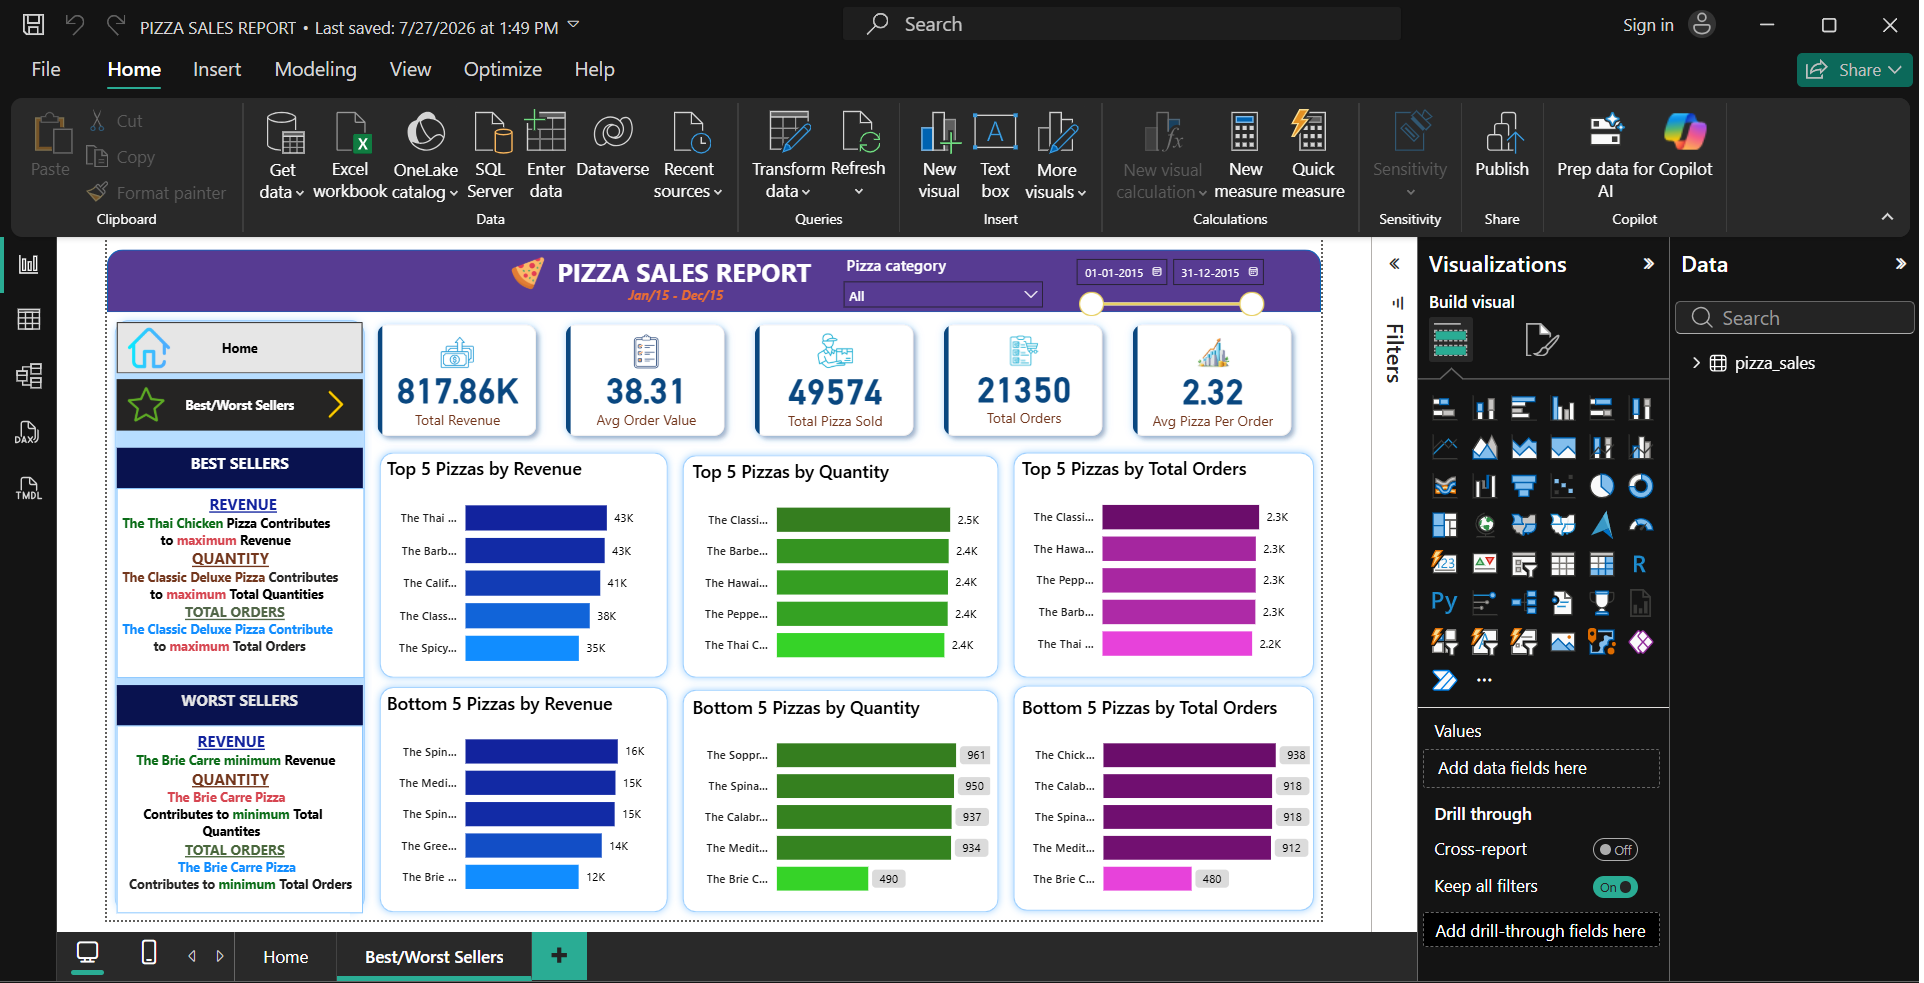

Layout of this report page (visuals, bound fields, positions):
{"tool":"powerbi","page":{"name":"Best/Worst Sellers","canvas":[1280,720],"ordinal":1},"visuals":[{"type":"cardVisual","fields":{"Data":["pizza_sales.Total Revenue","pizza_sales.Avg Order Value","pizza_sales.Total Pizza Sold","pizza_sales.Total Orders","pizza_sales.Avg Pizza Per Order"]},"box":[256.5,62.9,1022.8,175.4],"z":0},{"type":"shape","box":[0,13.2,1279.4,66.2],"z":1000},{"type":"textbox","box":[450.4,13.2,316.5,50],"z":2000},{"type":"textbox","box":[487.2,47.1,225.2,32.4],"z":3000},{"type":"image","box":[419.5,20.6,48.6,35.3],"z":4000},{"type":"shape","box":[279.7,219.3,319.4,253.2],"z":5000},{"type":"shape","box":[0,79.4,279.7,640.5],"z":6000},{"type":"textbox","box":[10.3,222.3,259.1,43],"z":7000},{"type":"textbox","box":[10.3,264.9,260.5,200.2],"z":8000},{"type":"textbox","box":[9.6,483.4,245.7,236.1],"z":9000},{"type":"textbox","box":[10.3,472.5,259.1,42.7],"z":10000},{"type":"textbox","box":[10.3,515.2,259.1,198],"z":11000},{"type":"slicer","fields":{"Values":["pizza_sales.pizza_category"]},"box":[766.8,13.2,229.6,66.2],"z":12000},{"type":"slicer","fields":{"Values":["pizza_sales.order_date"]},"box":[1009.6,13.2,218.5,76.1],"z":13000},{"type":"shape","box":[599.1,222.3,348.8,250.2],"z":14000},{"type":"shape","box":[947.9,219.3,332.6,253.2],"z":15000},{"type":"shape","box":[279.7,466.6,319.4,253.2],"z":16000},{"type":"shape","box":[599.1,469.5,348.8,250.2],"z":17000},{"type":"shape","box":[947.9,465.1,332.6,253.2],"z":18000},{"type":"barChart","title":"Top 5 Pizzas by Revenue","fields":{"Category":["pizza_sales.pizza_name"],"Y":["pizza_sales.Total Revenue"]},"box":[290,231.1,298.8,235.5],"z":19000},{"type":"barChart","title":"Bottom 5 Pizzas by Revenue","fields":{"Category":["pizza_sales.pizza_name"],"Y":["pizza_sales.Total Revenue"]},"box":[290,478.4,298.8,228.1],"z":20000},{"type":"barChart","title":"Top 5 Pizzas by Quantity","fields":{"Category":["pizza_sales.pizza_name"],"Y":["pizza_sales.Total Pizza Sold"]},"box":[612.3,234,322.3,228.1],"z":21000},{"type":"barChart","title":"Bottom 5 Pizzas by Quantity","fields":{"Category":["pizza_sales.pizza_name"],"Y":["pizza_sales.Total Pizza Sold"]},"box":[612.3,482.8,323.8,225.2],"z":22000},{"type":"barChart","title":"Top 5 Pizzas by Total Orders","fields":{"Category":["pizza_sales.pizza_name"],"Y":["pizza_sales.Total Orders"]},"box":[959.7,231.1,307.6,229.6],"z":23000},{"type":"barChart","title":"Bottom 5 Pizzas by Total Orders","fields":{"Category":["pizza_sales.pizza_name"],"Y":["pizza_sales.Total Orders"]},"box":[959.7,482.8,313.5,225.2],"z":24000},{"type":"pageNavigator","box":[10.3,150.1,259.1,54],"z":25000},{"type":"pageNavigator","box":[9.9,89.4,259.8,54],"z":26000},{"type":"image","box":[22.1,89.8,44.2,54.5],"z":27000},{"type":"image","box":[226.7,157.5,29.4,38.3],"z":28000},{"type":"image","box":[16.2,157.5,50,38.3],"z":29000}]}

Visuals, with their boxes on the page's 1280x720 design canvas (x1, y1, x2, y2). These are canvas units, not pixel positions in the 1924x983 screenshot, which may show the page scaled, cropped or inside an application window:
cardVisual - pizza_sales.Total Revenue x pizza_sales.Avg Order Value: <box>256,63,1279,238</box>
shape: <box>0,13,1279,79</box>
textbox: <box>450,13,767,63</box>
textbox: <box>487,47,712,80</box>
image: <box>420,21,468,56</box>
shape: <box>280,219,599,472</box>
shape: <box>0,79,280,720</box>
textbox: <box>10,222,269,265</box>
textbox: <box>10,265,271,465</box>
textbox: <box>10,483,255,720</box>
textbox: <box>10,472,269,515</box>
textbox: <box>10,515,269,713</box>
slicer - pizza_sales.pizza_category: <box>767,13,996,79</box>
slicer - pizza_sales.order_date: <box>1010,13,1228,89</box>
shape: <box>599,222,948,472</box>
shape: <box>948,219,1280,472</box>
shape: <box>280,467,599,720</box>
shape: <box>599,470,948,720</box>
shape: <box>948,465,1280,718</box>
"Top 5 Pizzas by Revenue" barChart: <box>290,231,589,467</box>
"Bottom 5 Pizzas by Revenue" barChart: <box>290,478,589,706</box>
"Top 5 Pizzas by Quantity" barChart: <box>612,234,935,462</box>
"Bottom 5 Pizzas by Quantity" barChart: <box>612,483,936,708</box>
"Top 5 Pizzas by Total Orders" barChart: <box>960,231,1267,461</box>
"Bottom 5 Pizzas by Total Orders" barChart: <box>960,483,1273,708</box>
pageNavigator: <box>10,150,269,204</box>
pageNavigator: <box>10,89,270,143</box>
image: <box>22,90,66,144</box>
image: <box>227,158,256,196</box>
image: <box>16,158,66,196</box>
